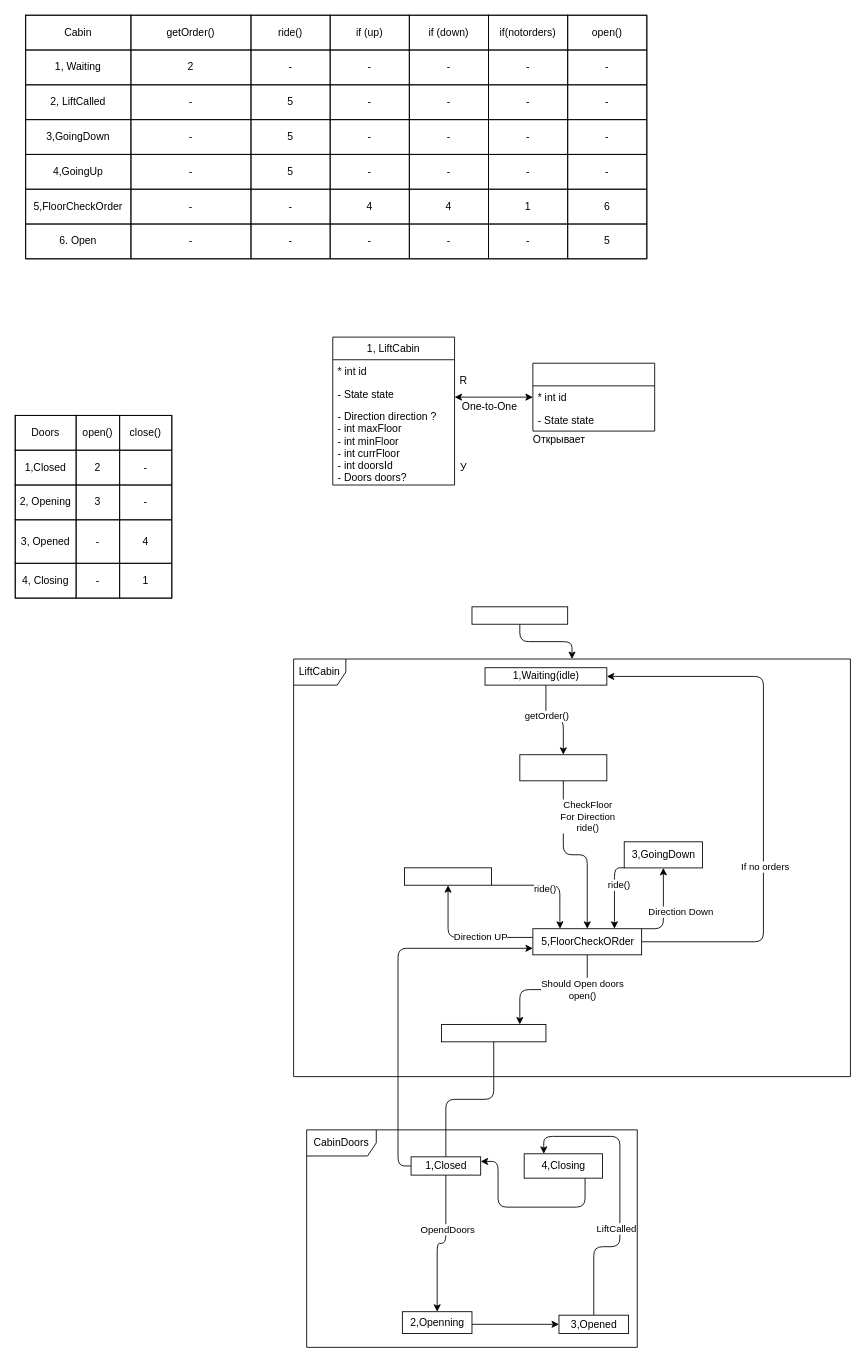
Some shapes in this 866 by 1363 pixel diagram are drawn without their labels. The box of each missing label's shape, as (x1, y1, x2, y2) in pixels:
2, CabinDoors: (532, 362, 655, 431)
2,LiftCalled(action): (519, 754, 607, 781)
4,GointUp: (404, 867, 492, 885)
6,Open: (441, 1024, 546, 1042)
ButtonPressEvent: (471, 606, 568, 624)
